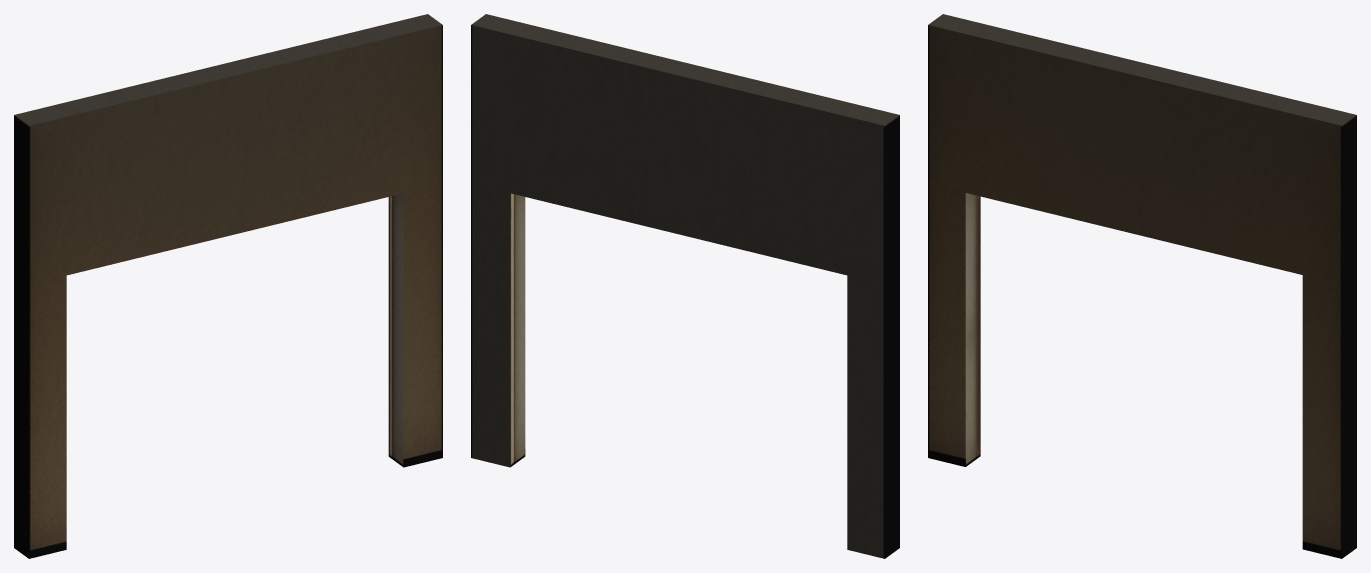
3 renders of one model, left to right at view 1: azimuth 30°, elevation 25°; view 2: azimuth 150°, elevation 25°; view 3: azimuth 330°, elevation 25°, orthographic.
Parts seen in each view (by area): view 1: Room; view 2: Room; view 3: Room.
Part boxes in pixels (x1,y1,x2,y2): Room: (14,14,442,558); Room: (471,14,899,558); Room: (928,14,1356,558).
Size of the model in its own units: 26.23 by 26.23 by 1.64.
Materials: 1 (1 with a texture image).
